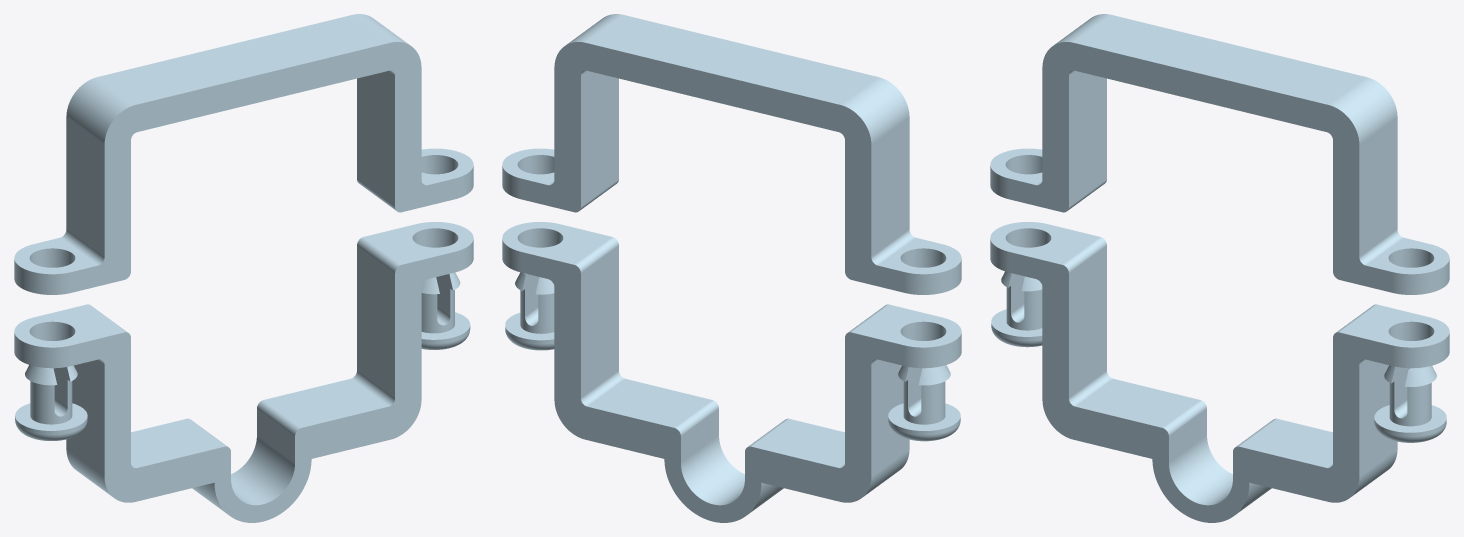
The model's file is Final Bracket Version for Website.gltf.
3 views of the same model, side by side, from view 1: azimuth 30°, elevation 25°; view 2: azimuth 150°, elevation 25°; view 3: azimuth 330°, elevation 25° (orthographic).
Visible parts, largest first — view 1: Half2, Half, Rivet (×2); view 2: Half2, Half, Rivet (×2); view 3: Half2, Half, Rivet (×2).
Part boxes in pixels (x1,y1,x2,y2): Half2: (14,222,473,522); Half: (14,14,473,294); Rivet (×2): (15,272,470,440); Half2: (502,222,961,522); Half: (502,14,961,294); Rivet (×2): (505,272,960,441); Half2: (990,222,1449,522); Half: (990,14,1449,294); Rivet (×2): (991,271,1446,442).
Bounding box in the file's own units: 0.068 × 0.0648 × 0.01.
